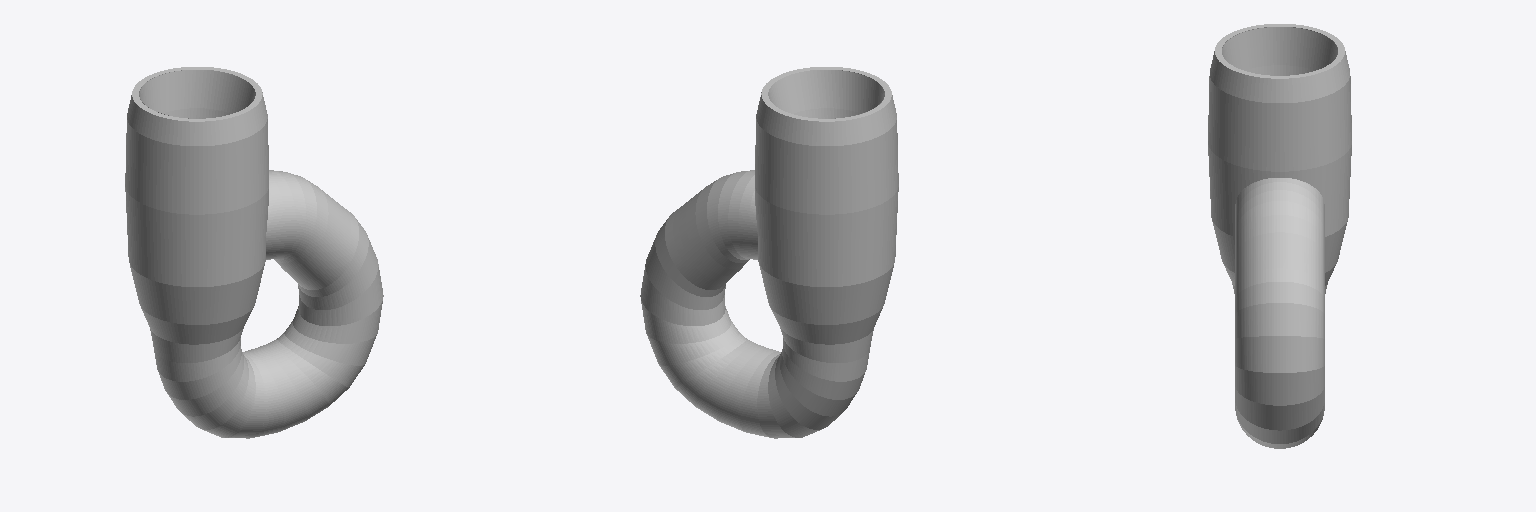
File: kleinBottle.obj
3 views of the same model, side by side, from view 1: azimuth 30°, elevation 25°; view 2: azimuth 150°, elevation 25°; view 3: azimuth 270°, elevation 25° (orthographic).
Parts seen in each view (by area): view 1: Klein_Bottle_Circle.002; view 2: Klein_Bottle_Circle.002; view 3: Klein_Bottle_Circle.002.
Boxes of the visible parts, box(x1,y1,x2,y2) form: Klein_Bottle_Circle.002: box(125, 67, 383, 438); Klein_Bottle_Circle.002: box(640, 67, 898, 438); Klein_Bottle_Circle.002: box(1208, 24, 1351, 448).
Size of the model in its own units: 3.87 by 5.38 by 2.